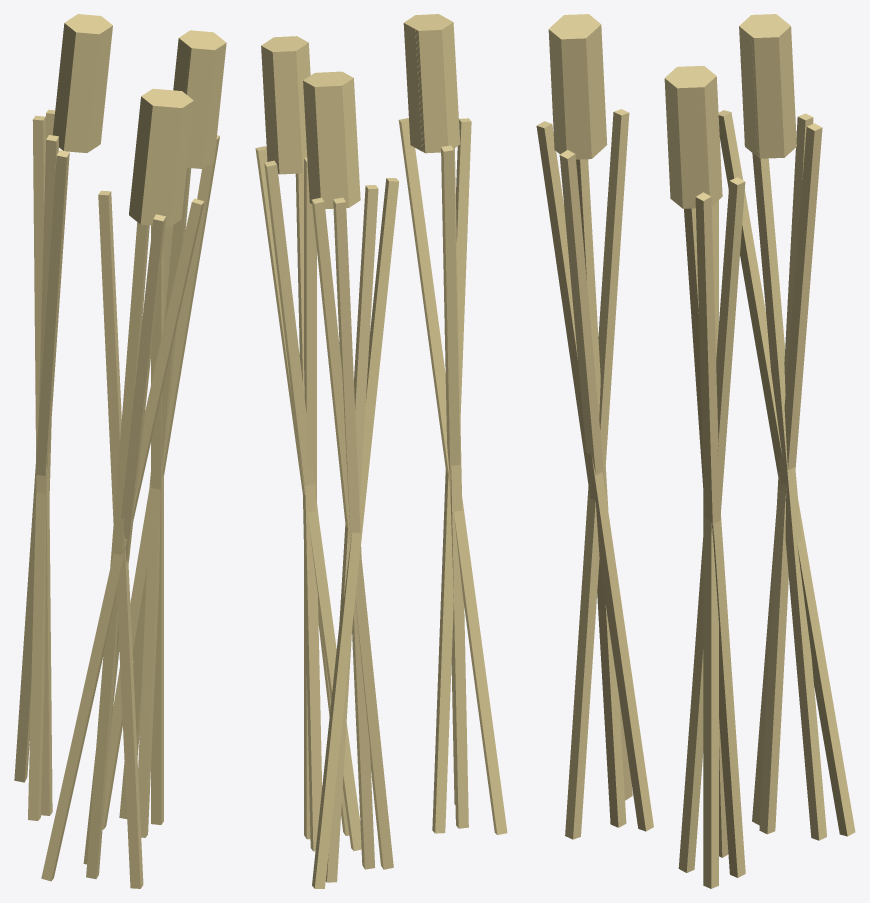
Rendered from wheat__wheat.fbx.
3 renders of one model, left to right at view 1: azimuth 30°, elevation 25°; view 2: azimuth 150°, elevation 25°; view 3: azimuth 270°, elevation 25°, orthographic. The views are drawn at different scales.
Parts seen in each view (by area): view 1: wheat__wheat; view 2: wheat__wheat; view 3: wheat__wheat.
Boxes of the visible parts, x1=… form: wheat__wheat: x1=14, y1=14, x2=226, y2=888; wheat__wheat: x1=255, y1=14, x2=507, y2=888; wheat__wheat: x1=536, y1=14, x2=855, y2=888.
Bounding box in the file's own units: 0.2658 × 0.9315 × 0.3209.
